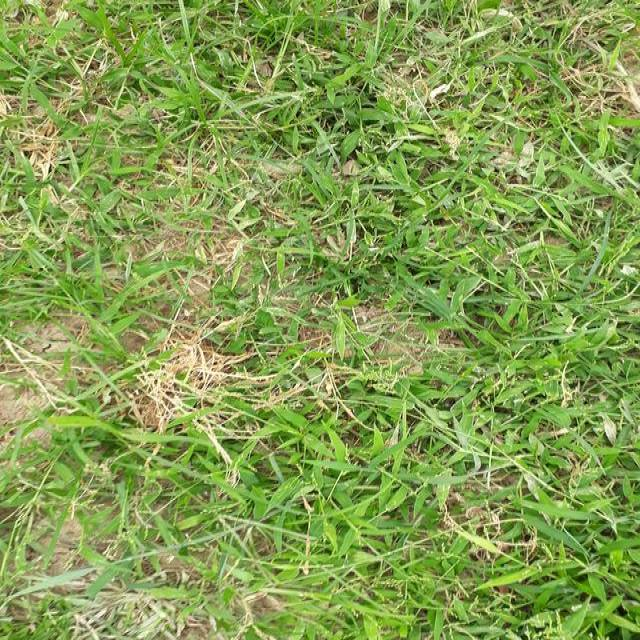weed: (34, 26, 502, 352), (410, 91, 640, 640), (48, 349, 430, 640)
